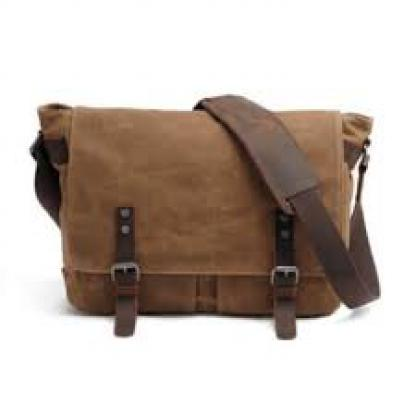morral: (24, 90, 396, 346)
